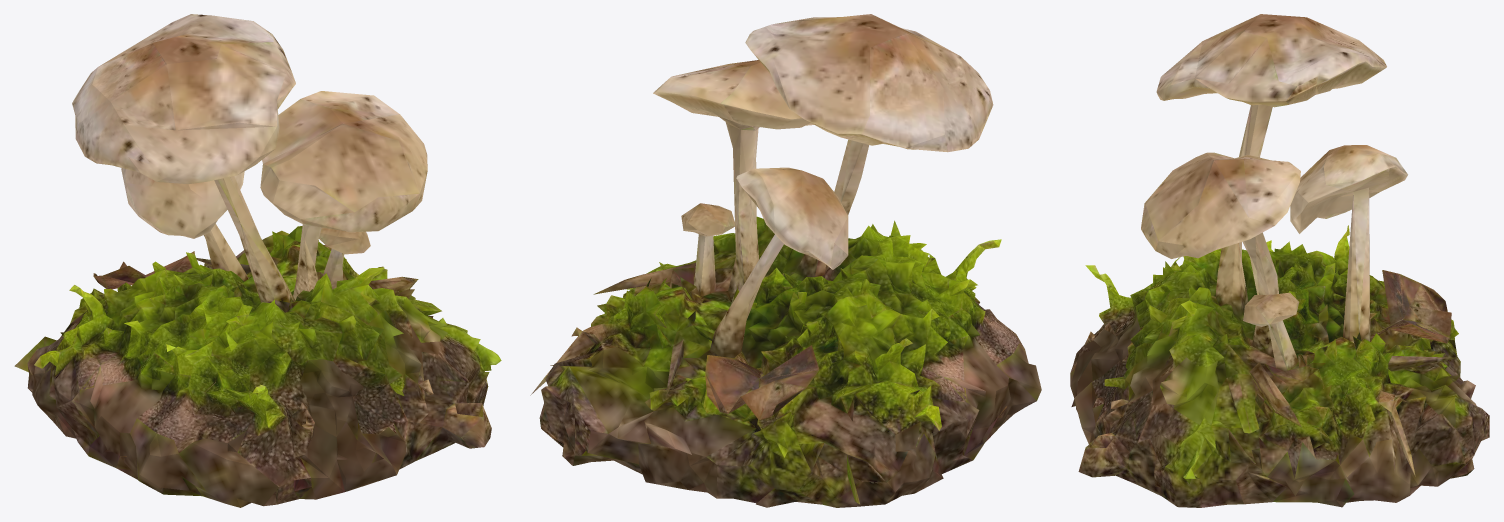
Rendered from mushrooms.glb.
The picture shows the model from 3 angles, left to right: view 1: azimuth 30°, elevation 25°; view 2: azimuth 150°, elevation 25°; view 3: azimuth 270°, elevation 25°; orthographic projection. The views are drawn at different scales.
Parts seen in each view (by area): view 1: Mesh_0; view 2: Mesh_0; view 3: Mesh_0.
Boxes of the visible parts, x1,y1,x2,y2 form: Mesh_0: (14,14,501,507); Mesh_0: (530,14,1041,507); Mesh_0: (1070,14,1489,507).
Size of the model in its own units: 1.89 by 1.84 by 1.87.
Materials: 1 (1 with a texture image).
